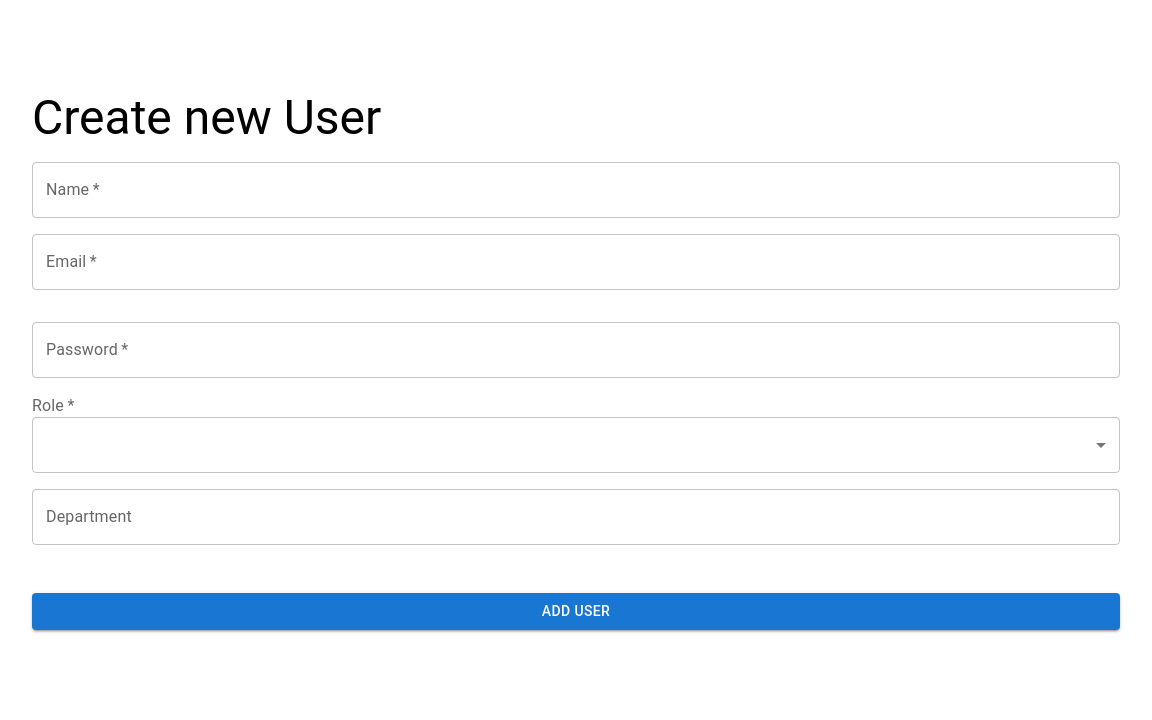
Test case: AddUserFormSchwer Component › handles server error during user creation
What coordinates should you click on to do the following:
click the button "Add User"
I would click on:
 (576, 612)
Its box is [32,593,1120,630].
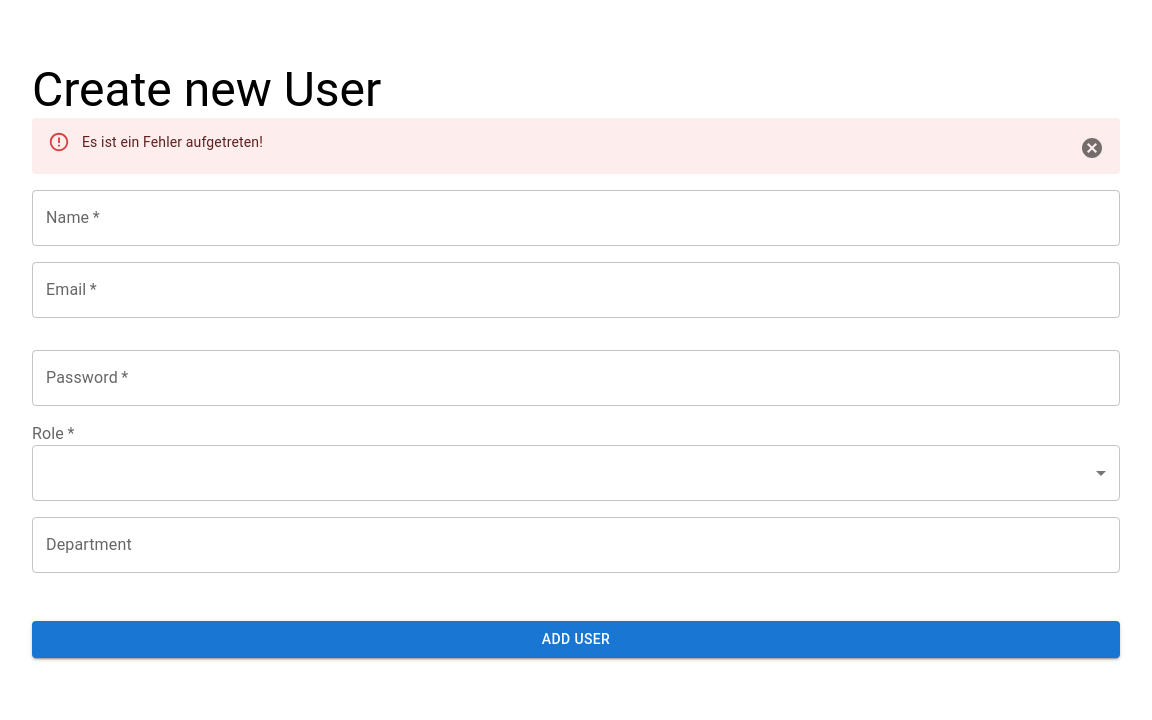
Result: the text "Es ist ein Fehler aufgetreten!" is shown at [82,134,263,150]
